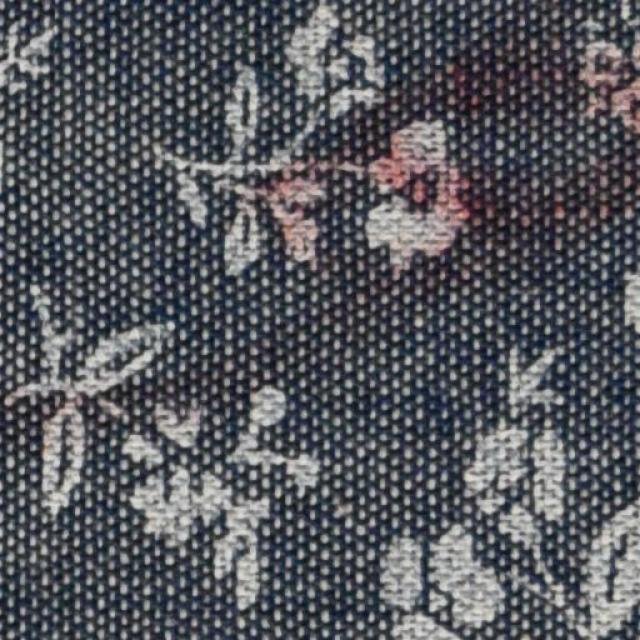Stain: (251, 17, 639, 280)
